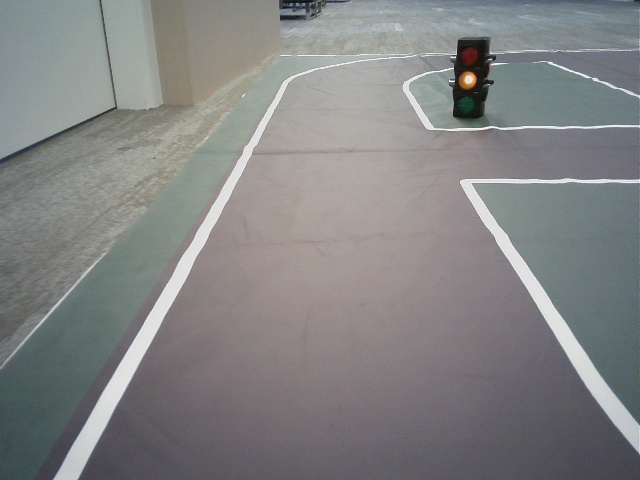yellow: (455, 42, 482, 117)
